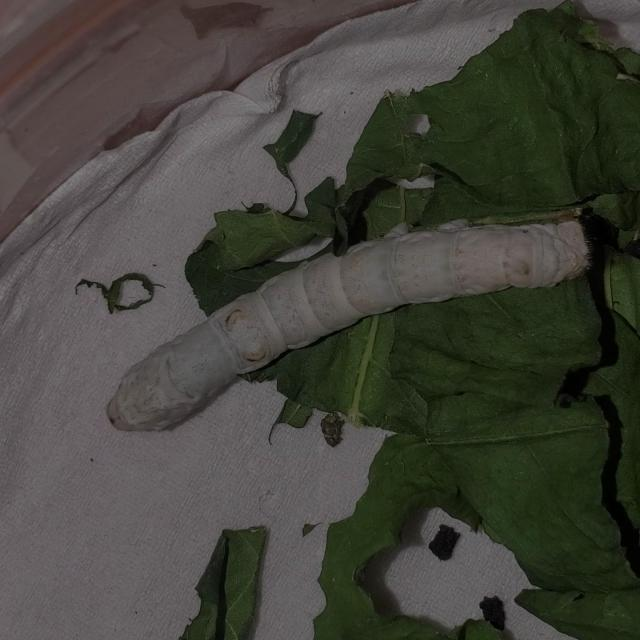Healthy: (91, 188, 599, 440)
